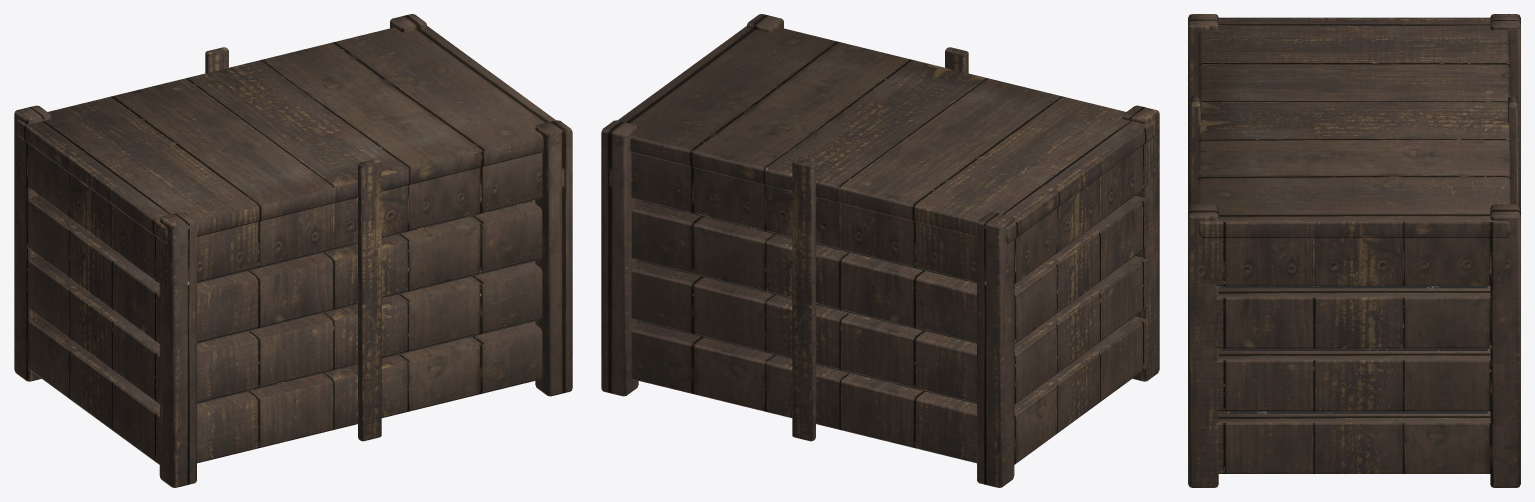
The model's file is loot_crate_wood.glb.
3 renders of one model, left to right at view 1: azimuth 30°, elevation 25°; view 2: azimuth 150°, elevation 25°; view 3: azimuth 270°, elevation 25°, orthographic. The views are drawn at different scales.
Parts seen in each view (by area): view 1: box.005, box.003, box.001, box.002, box.004, box.006, box.008, box.010, box.007, box; view 2: box.005, box.001, box.003, box.002, box.004, box.007, box.009, box.011, box.006, box; view 3: box.005, box.003, box.002, box.001, box.004, box.009, box.008, box, box.006, box.007, box.010, box.011.
Boxes of the visible parts, x1,y1,x2,y2 form: box.005: (17,26,555,243); box.003: (21,196,542,345); box.001: (21,316,542,466); box.002: (22,256,542,405); box.004: (21,138,542,285); box.006: (159,212,196,487); box.008: (535,120,572,396); box.010: (358,159,381,441); box.007: (14,105,51,381); box: (197,200,535,403); box.005: (618,26,1156,243); box.001: (631,316,1148,466); box.003: (631,196,1148,344); box.002: (631,256,1148,405); box.004: (631,141,1148,284); box.007: (977,212,1014,487); box.009: (601,120,638,396); box.011: (792,159,815,441); box.006: (1122,105,1159,381); box: (638,200,976,403); box.005: (1198,17,1510,238); box.003: (1205,286,1503,348); box.002: (1205,348,1503,411); box.001: (1205,411,1503,473); box.004: (1205,238,1503,285); box.009: (1490,204,1520,487); box.008: (1188,204,1218,487); box: (1221,286,1487,413); box.006: (1188,14,1218,207); box.007: (1490,14,1520,207); box.010: (1190,96,1200,204); box.011: (1508,96,1518,204).
Size of the model in its own units: 0.95 by 0.62 by 0.65.
2 materials, 2 textured.
